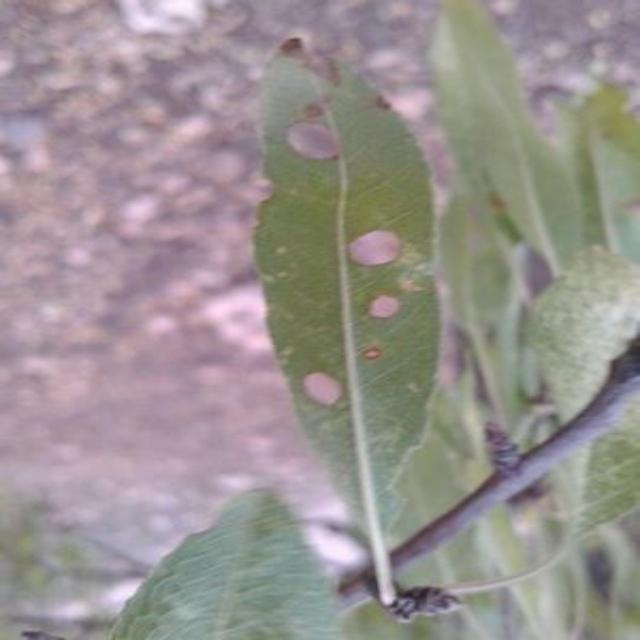shot_hole: (150, 39, 521, 554)
